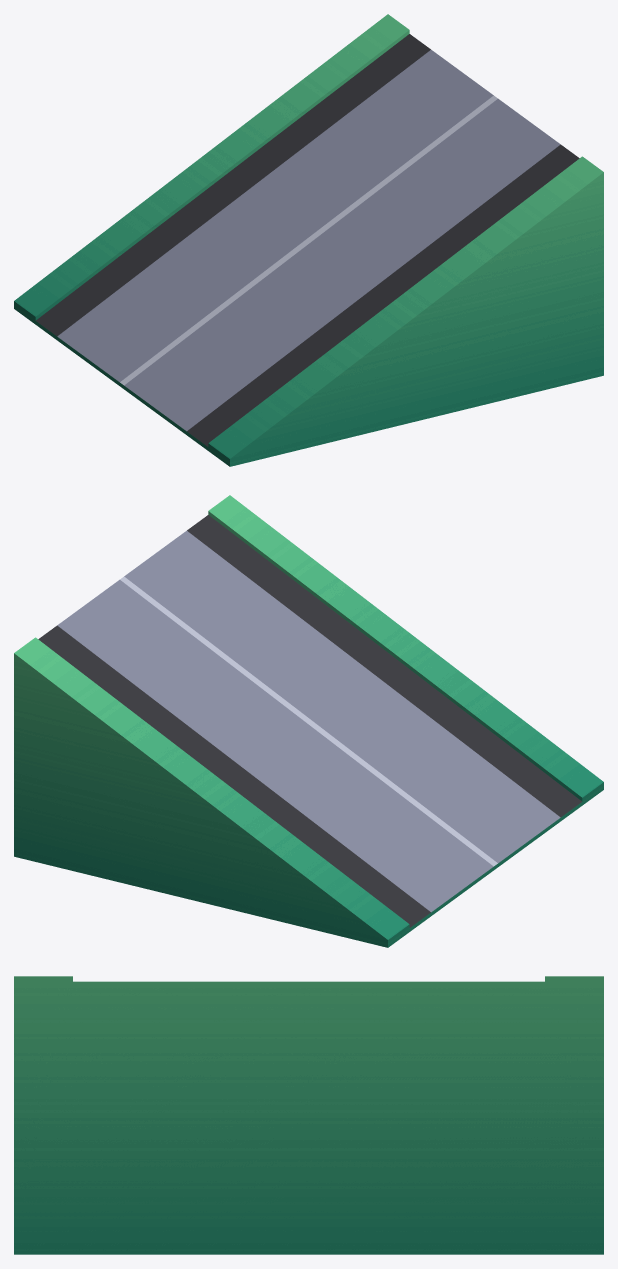
The model's file is road_slant_high.glb.
3 views of the same model, one above another, from view 1: azimuth 30°, elevation 25°; view 2: azimuth 150°, elevation 25°; view 3: azimuth 270°, elevation 25° (orthographic). The views are drawn at different scales.
Parts seen in each view (by area): view 1: road-slant-high; view 2: road-slant-high; view 3: road-slant-high.
Part boxes in pixels (left/top/right/bottom): road-slant-high: left=14, top=14, right=603, bottom=466; road-slant-high: left=14, top=495, right=603, bottom=947; road-slant-high: left=14, top=976, right=603, bottom=1254.
Size of the model in its own units: 1 by 0.52 by 1.
Materials: 1 (1 with a texture image).
